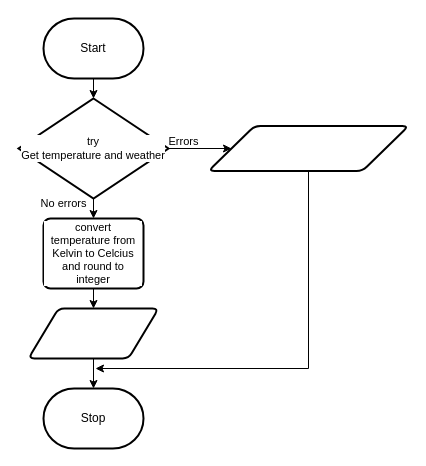
This 426x466 diagram has some shape labels left out. The centre of each missing label's shape, as x and y in pixels:
display 'The server is currently down. Please try again later': the point at 308,148
display temperature and weather icon: the point at 93,333
